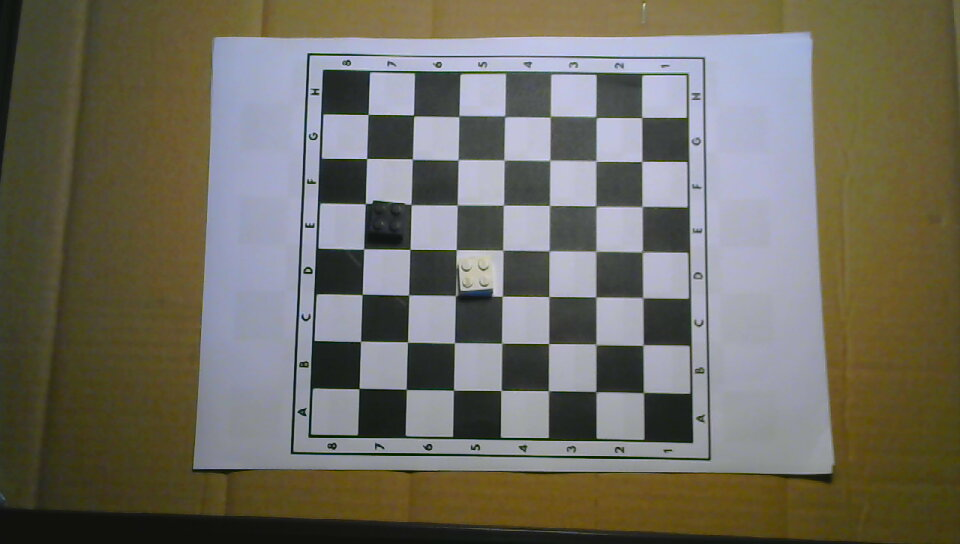bp: (367, 201, 408, 239)
wp: (456, 256, 495, 298)
